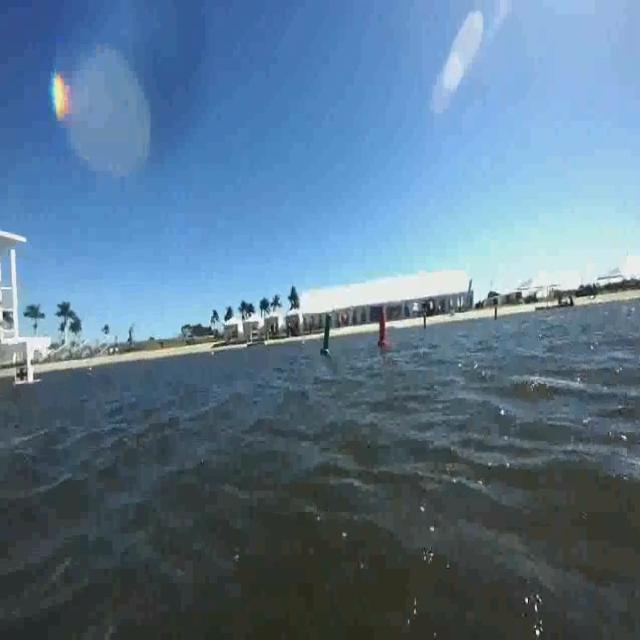green-column-buoy: (320, 312, 335, 357)
red-column-buoy: (377, 302, 394, 353)
